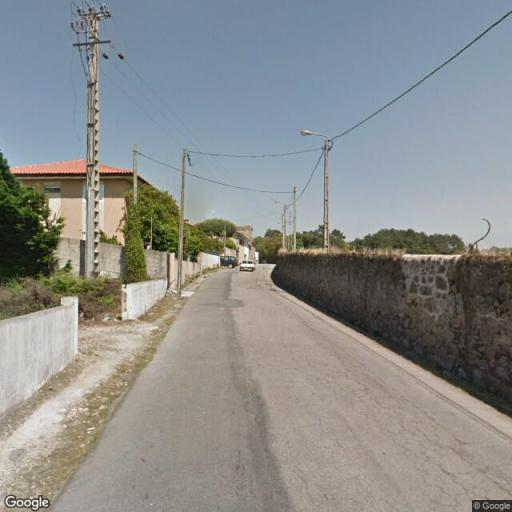mono_7: (66, 2, 119, 280)
